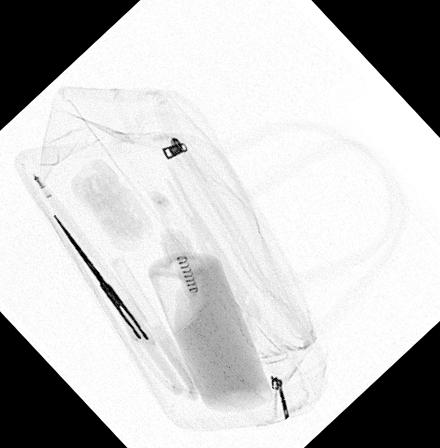Scissors: (46, 210, 188, 396)
